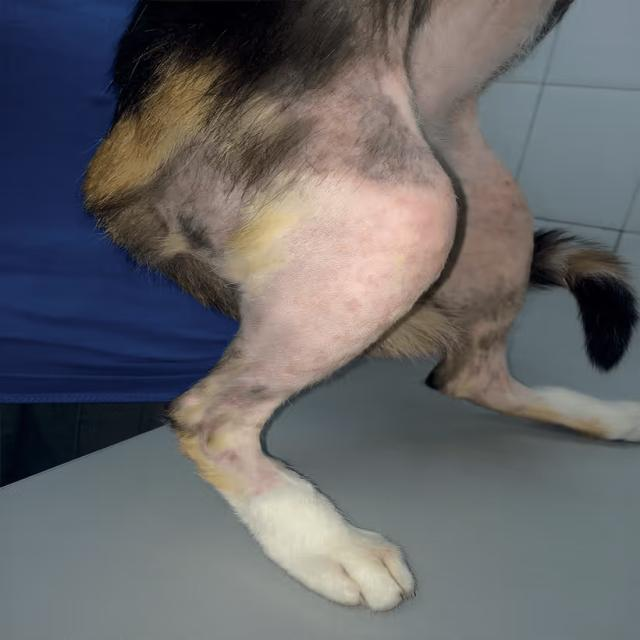cat-hairloss: (225, 470, 370, 583), (276, 210, 389, 323), (431, 6, 499, 84), (226, 352, 298, 406)
